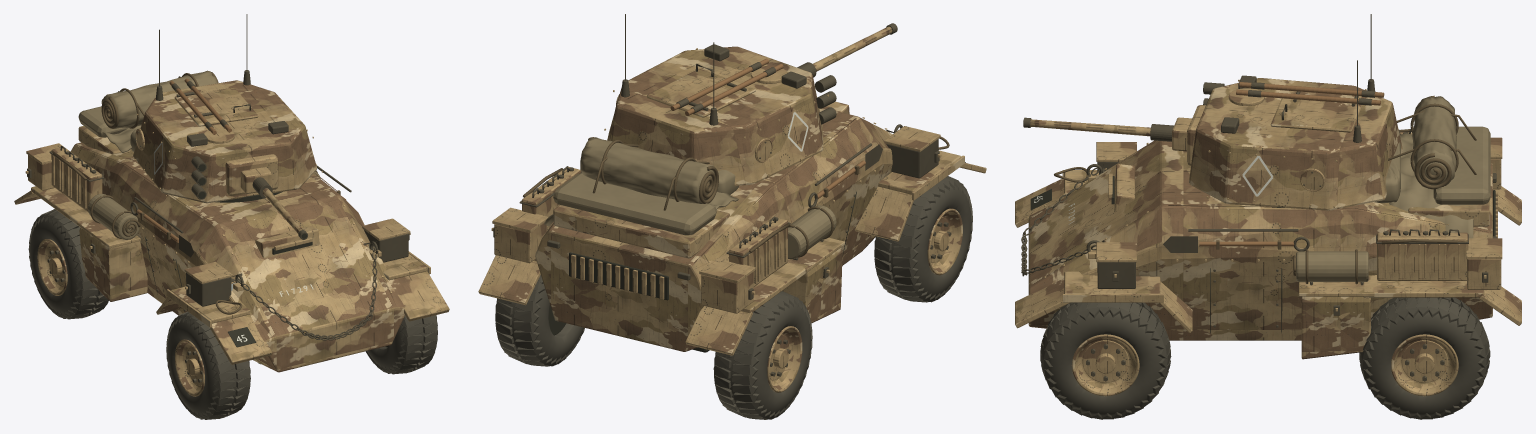
Rendered from runtime-tank-desert.glb.
3 views of the same model, side by side, from view 1: azimuth 30°, elevation 25°; view 2: azimuth 150°, elevation 25°; view 3: azimuth 270°, elevation 25° (orthographic). The views are drawn at different scales.
Parts seen in each view (by area): view 1: hull--armor-surface-0, turret-pivot--armor-surface-0, front-fenders--armor-surface-0, wheel-left-front--rubber-surface-0, rear-stowage--canvas-surface-0, wheel-left-rear--rubber-surface-0, side-boxes--armor-surface-0, wheel-right-front--rubber-surface-0, hull--armor-edge-surface-0, front-fenders--armor-edge-surface-0, front-fenders--steel-surface-0, hatch--armor-surface-0 (+16 smaller); view 2: hull--armor-surface-0, turret-pivot--armor-surface-0, rear-stowage--canvas-surface-0, wheel-left-rear--rubber-surface-0, wheel-left-front--rubber-surface-0, rear-fenders--armor-surface-0, wheel-right-rear--rubber-surface-0, front-fenders--armor-surface-0, rear-boxes--armor-surface-0, rear-stowage--armor-surface-0, side-boxes--armor-surface-0, hatch--armor-surface-0 (+17 smaller); view 3: hull--armor-surface-0, turret-pivot--armor-surface-0, rear-stowage--canvas-surface-0, wheel-right-rear--rubber-surface-0, wheel-right-front--rubber-surface-0, hull--armor-edge-surface-0, front-fenders--armor-surface-0, side-boxes--armor-surface-0, rear-stowage--armor-surface-0, rear-fenders--armor-surface-0, wheel-right-rear--armor-surface-0, wheel-right-front--armor-surface-0 (+15 smaller).
Boxes of the visible parts, x1,y1,x2,y2 form: hull--armor-surface-0: [70, 126, 404, 372]; turret-pivot--armor-surface-0: [133, 80, 316, 203]; front-fenders--armor-surface-0: [156, 254, 449, 364]; wheel-left-front--rubber-surface-0: [166, 311, 250, 419]; rear-stowage--canvas-surface-0: [78, 70, 320, 239]; wheel-left-rear--rubber-surface-0: [28, 209, 108, 319]; side-boxes--armor-surface-0: [79, 228, 147, 301]; wheel-right-front--rubber-surface-0: [365, 315, 437, 374]; hull--armor-edge-surface-0: [75, 144, 337, 314]; front-fenders--armor-edge-surface-0: [166, 218, 430, 327]; front-fenders--steel-surface-0: [186, 230, 408, 306]; hatch--armor-surface-0: [174, 87, 258, 126]; hull--armor-surface-0: [535, 101, 892, 351]; turret-pivot--armor-surface-0: [607, 46, 823, 186]; rear-stowage--canvas-surface-0: [544, 137, 836, 259]; wheel-left-rear--rubber-surface-0: [713, 291, 812, 419]; wheel-left-front--rubber-surface-0: [874, 176, 972, 302]; rear-fenders--armor-surface-0: [478, 255, 823, 355]; wheel-right-rear--rubber-surface-0: [495, 274, 584, 366]; front-fenders--armor-surface-0: [854, 150, 986, 241]; rear-boxes--armor-surface-0: [494, 223, 753, 313]; rear-stowage--armor-surface-0: [522, 166, 787, 286]; side-boxes--armor-surface-0: [782, 247, 842, 323]; hatch--armor-surface-0: [646, 69, 755, 117]; hull--armor-surface-0: [1028, 140, 1497, 340]; turret-pivot--armor-surface-0: [1189, 78, 1402, 210]; rear-stowage--canvas-surface-0: [1296, 96, 1490, 281]; wheel-right-rear--rubber-surface-0: [1359, 297, 1490, 419]; wheel-right-front--rubber-surface-0: [1040, 302, 1171, 419]; hull--armor-edge-surface-0: [1108, 173, 1488, 337]; front-fenders--armor-surface-0: [1015, 171, 1192, 332]; side-boxes--armor-surface-0: [1301, 296, 1370, 359]; rear-stowage--armor-surface-0: [1377, 132, 1468, 280]; rear-fenders--armor-surface-0: [1339, 186, 1521, 325]; wheel-right-rear--armor-surface-0: [1391, 334, 1458, 396]; wheel-right-front--armor-surface-0: [1071, 334, 1139, 396].
Bounding box in the file's own units: 2.76 × 3.32 × 4.61.
Materials: 10 (9 with a texture image).
